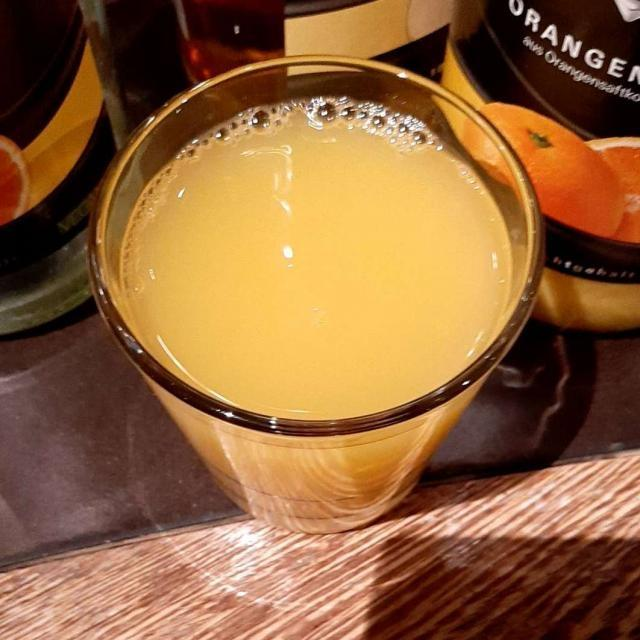juice: (118, 94, 479, 523)
